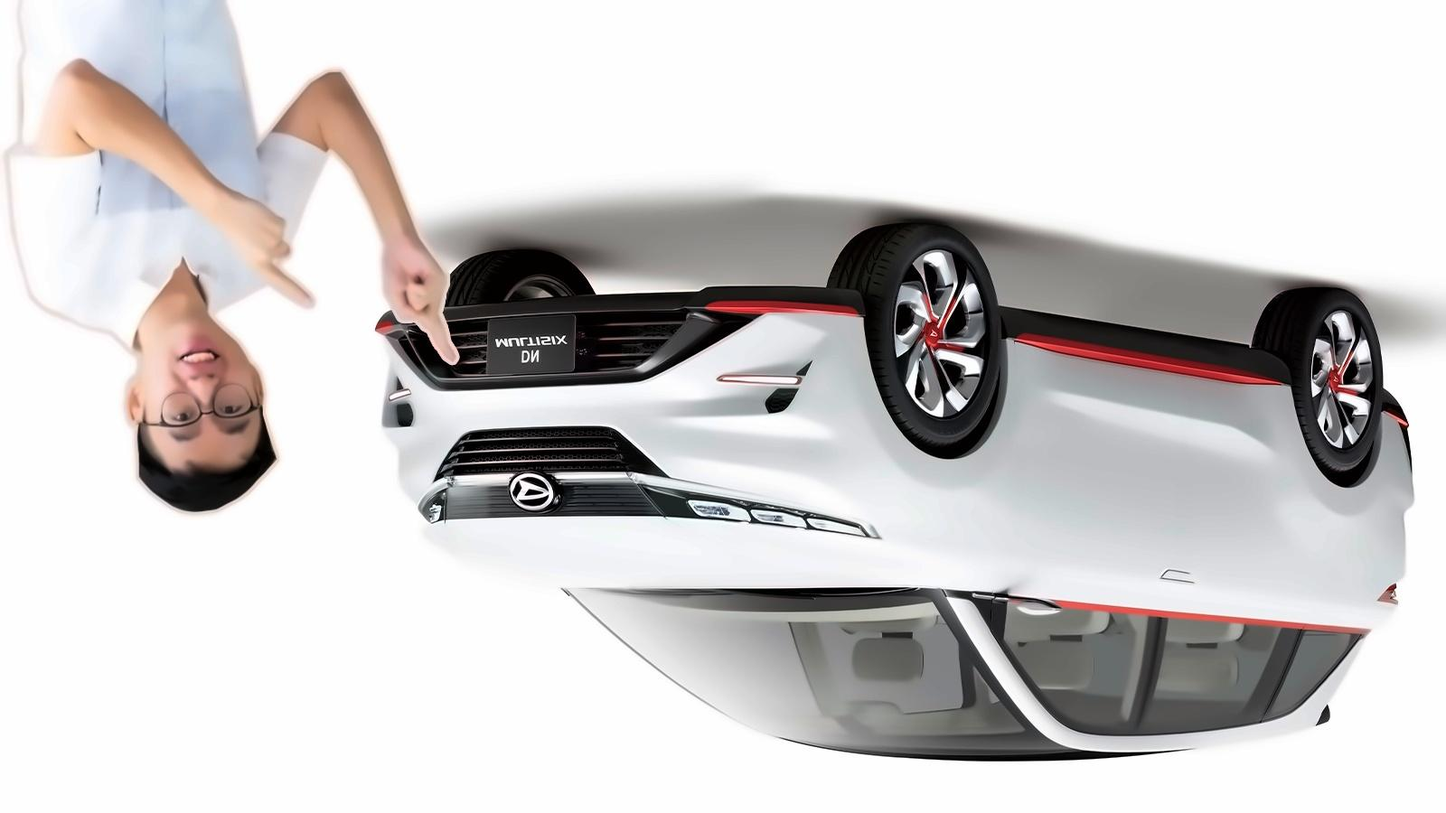Car hood: (411, 517, 927, 596)
Driver-s door - -F-R-: (1014, 324, 1192, 750)
Fender - -F-R-: (900, 307, 1017, 604)
Fender - -R-R-: (1323, 462, 1408, 583)
Front bumper: (363, 280, 896, 471)
Headlight - -L-: (405, 471, 459, 530)
Headlight - -R-: (622, 465, 882, 545)
Passenger-s door - -R-R-: (1190, 351, 1320, 749)
Rear bumper: (1370, 383, 1420, 508)
Rear light - -R-: (1360, 566, 1407, 617)
Side bumper - -R-: (984, 300, 1293, 393)
Side mirror - -R-: (988, 575, 1067, 630)
